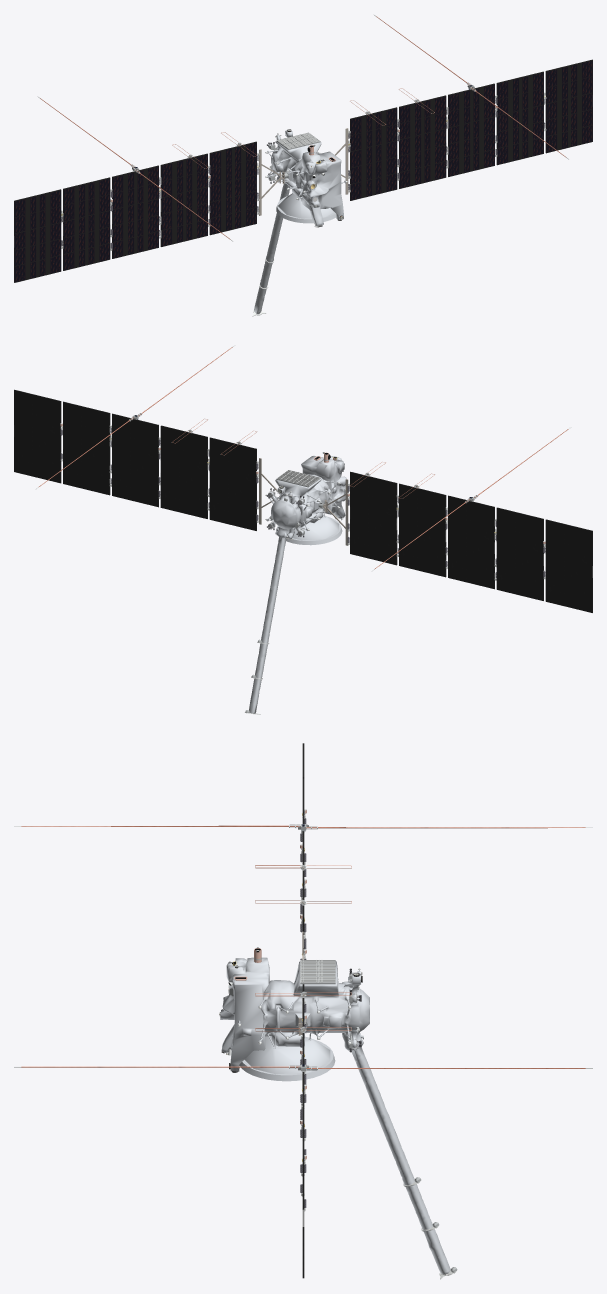
File: clipper.glb
The picture shows the model from 3 angles, top to bottom: view 1: azimuth 30°, elevation 25°; view 2: azimuth 150°, elevation 25°; view 3: azimuth 270°, elevation 25°; orthographic projection. The views are drawn at different scales.
Visible parts, largest first — view 1: solar_cells, solar_cells_chassis, blanket_hideable, blanket_soft, reason, bus_exposed, blanket_hard; view 2: solar_cells_chassis, blanket_hideable, blanket_soft, reason, bus_exposed, blanket_hard; view 3: blanket_hideable, blanket_soft, reason, solar_cells_chassis, blanket_hard, bus_exposed.
Part boxes in pixels (box(x1,y1,x2,y2)): solar_cells: box(14, 60, 592, 282); solar_cells_chassis: box(14, 59, 592, 282); blanket_hideable: box(254, 130, 343, 314); blanket_soft: box(268, 135, 333, 218); reason: box(37, 15, 568, 241); bus_exposed: box(265, 132, 347, 227); blanket_hard: box(267, 150, 345, 223); solar_cells_chassis: box(14, 389, 592, 612); blanket_hideable: box(249, 456, 349, 713); blanket_soft: box(270, 474, 338, 540); reason: box(36, 345, 571, 570); bus_exposed: box(265, 470, 345, 539); blanket_hard: box(267, 472, 345, 545); blanket_hideable: box(220, 957, 450, 1274); blanket_soft: box(244, 961, 369, 1074); reason: box(14, 824, 592, 1071); solar_cells_chassis: box(298, 743, 306, 1278); blanket_hard: box(238, 976, 351, 1081); bus_exposed: box(221, 960, 363, 1055).
Size of the model in its own units: 30.5 by 11.25 by 18.
16 materials, 13 textured.
